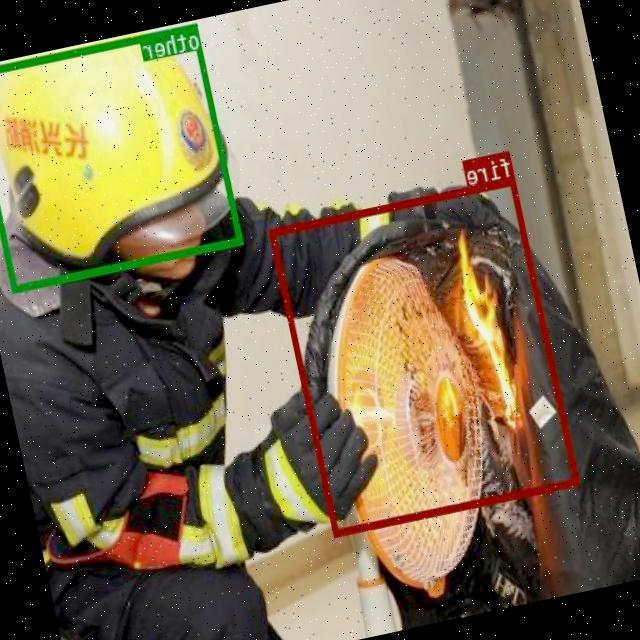fire: (270, 176, 581, 534)
